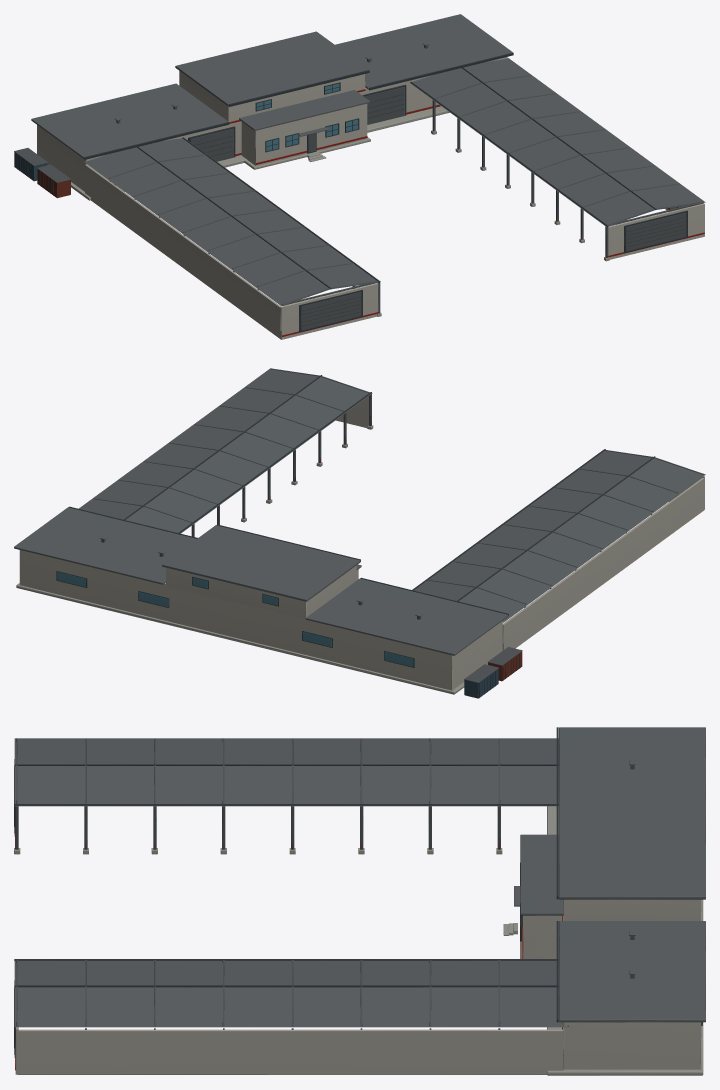
File: earthworks_facility_large.obj
The picture shows the model from 3 angles, top to bottom: view 1: azimuth 30°, elevation 25°; view 2: azimuth 150°, elevation 25°; view 3: azimuth 270°, elevation 25°; orthographic projection. The views are drawn at different scales.
Parts seen in each view (by area): view 1: mesh_office_roof_graphite, mesh_dispatch_concrete, mesh_canopy_structural_steel, mesh_window_frames, mesh_foundation_concrete, mesh_safety_red, mesh_office_window_glass, mesh_container_oxide_red; view 2: mesh_office_roof_graphite, mesh_dispatch_concrete, mesh_canopy_structural_steel, mesh_window_frames, mesh_foundation_concrete, mesh_office_window_glass, mesh_container_blue; view 3: mesh_office_roof_graphite, mesh_dispatch_concrete, mesh_window_frames, mesh_canopy_structural_steel, mesh_foundation_concrete.
Part boxes in pixels (bbox=[...]): mesh_office_roof_graphite: bbox=[31, 14, 705, 305]; mesh_dispatch_concrete: bbox=[37, 57, 704, 339]; mesh_canopy_structural_steel: bbox=[14, 45, 703, 330]; mesh_window_frames: bbox=[14, 52, 687, 332]; mesh_foundation_concrete: bbox=[71, 106, 609, 316]; mesh_safety_red: bbox=[114, 89, 704, 336]; mesh_office_window_glass: bbox=[256, 83, 358, 151]; mesh_container_oxide_red: bbox=[37, 169, 70, 198]; mesh_office_roof_graphite: bbox=[14, 368, 705, 655]; mesh_dispatch_concrete: bbox=[19, 396, 704, 690]; mesh_canopy_structural_steel: bbox=[93, 368, 703, 682]; mesh_window_frames: bbox=[56, 375, 677, 697]; mesh_foundation_concrete: bbox=[16, 425, 487, 694]; mesh_office_window_glass: bbox=[57, 572, 413, 666]; mesh_container_blue: bbox=[464, 668, 498, 698]; mesh_office_roof_graphite: bbox=[14, 727, 705, 1027]; mesh_dispatch_concrete: bbox=[15, 899, 701, 1074]; mesh_window_frames: bbox=[14, 727, 702, 1057]; mesh_canopy_structural_steel: bbox=[14, 738, 634, 1054]; mesh_foundation_concrete: bbox=[14, 806, 703, 1075].
Bounding box in the file's own units: 78.99 × 9.88 × 75.34.
